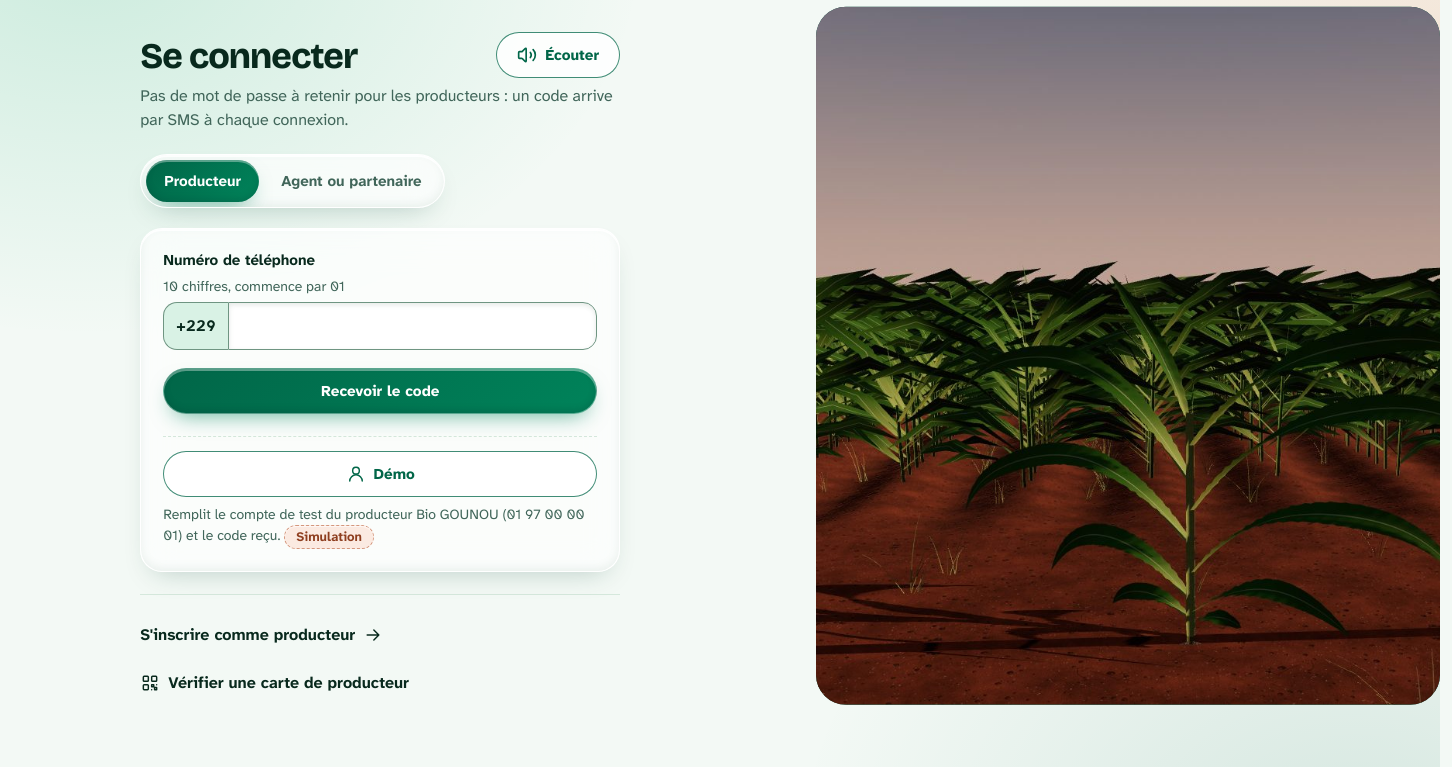
Test: Connexion › affiche l’erreur du serveur sur un code faux
The width and height of the screenshot is (1452, 767).
Type "0197000001" into the field labelled "Numéro de téléphone". click: {"x": 413, "y": 326}
box: [228,302,597,350]
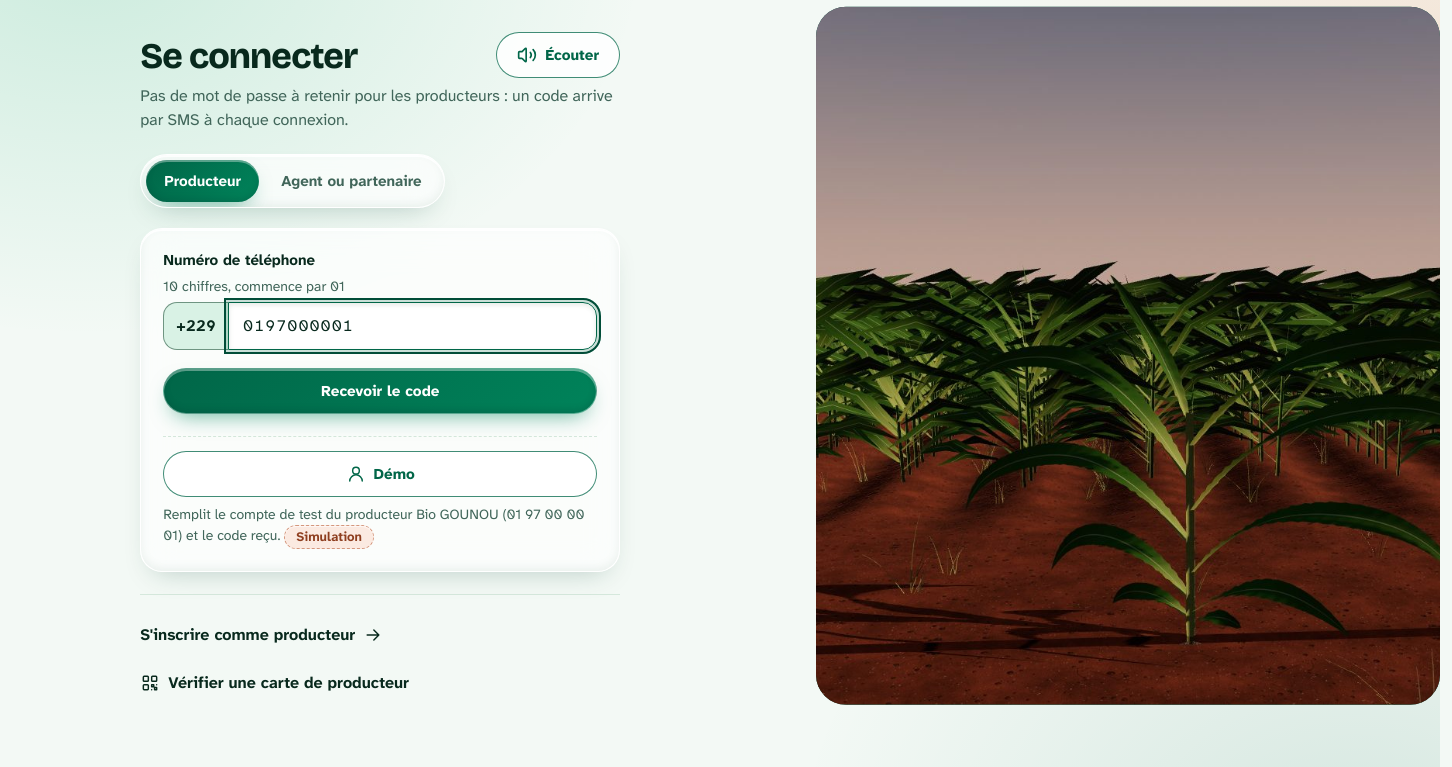
Click the button "Recevoir le code". click: {"x": 380, "y": 391}
box: [163,368,597,414]
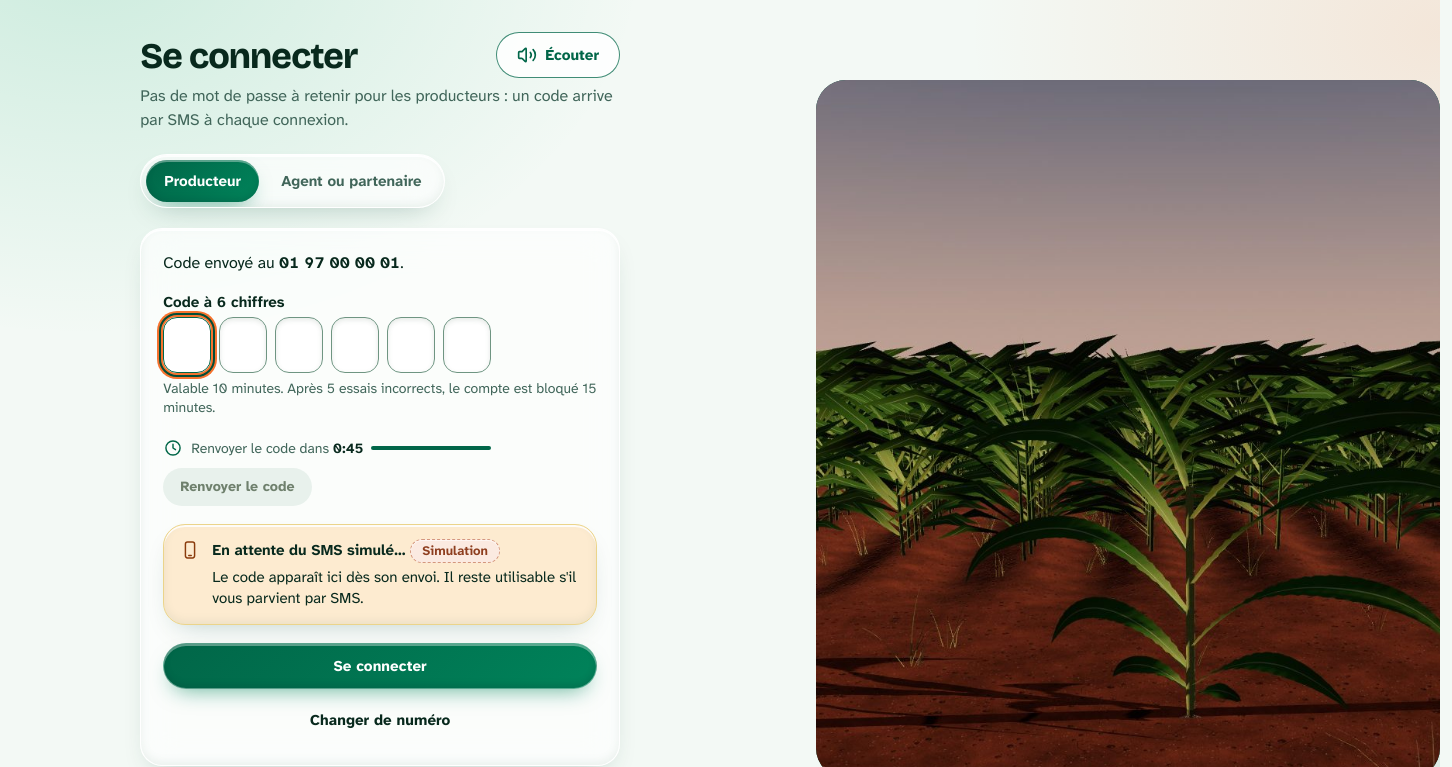
Type "000000" into the field named "Chiffre 1 sur 6". click: {"x": 187, "y": 344}
box: [163,316,211,372]
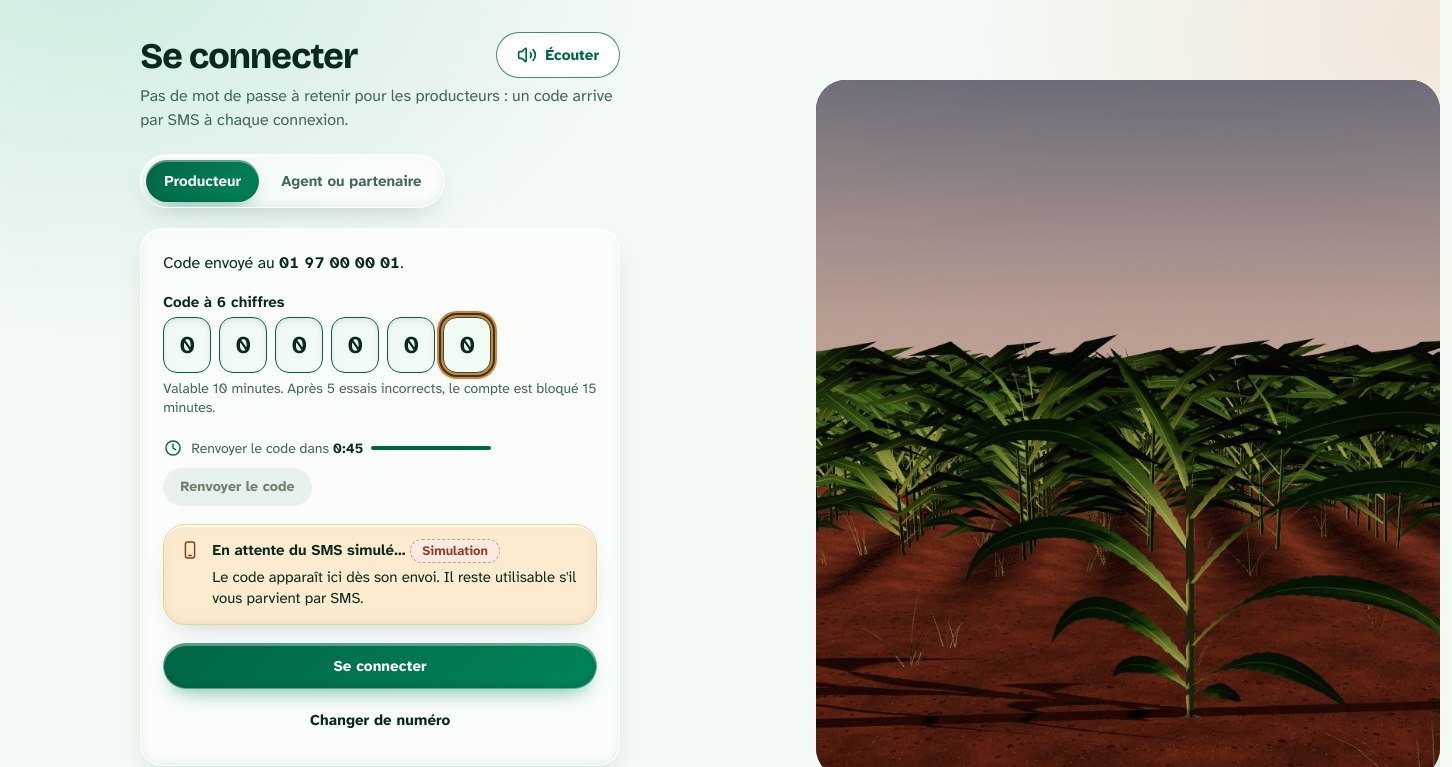
Click the button "Se connecter". click: {"x": 380, "y": 666}
box: [163,643,597,689]
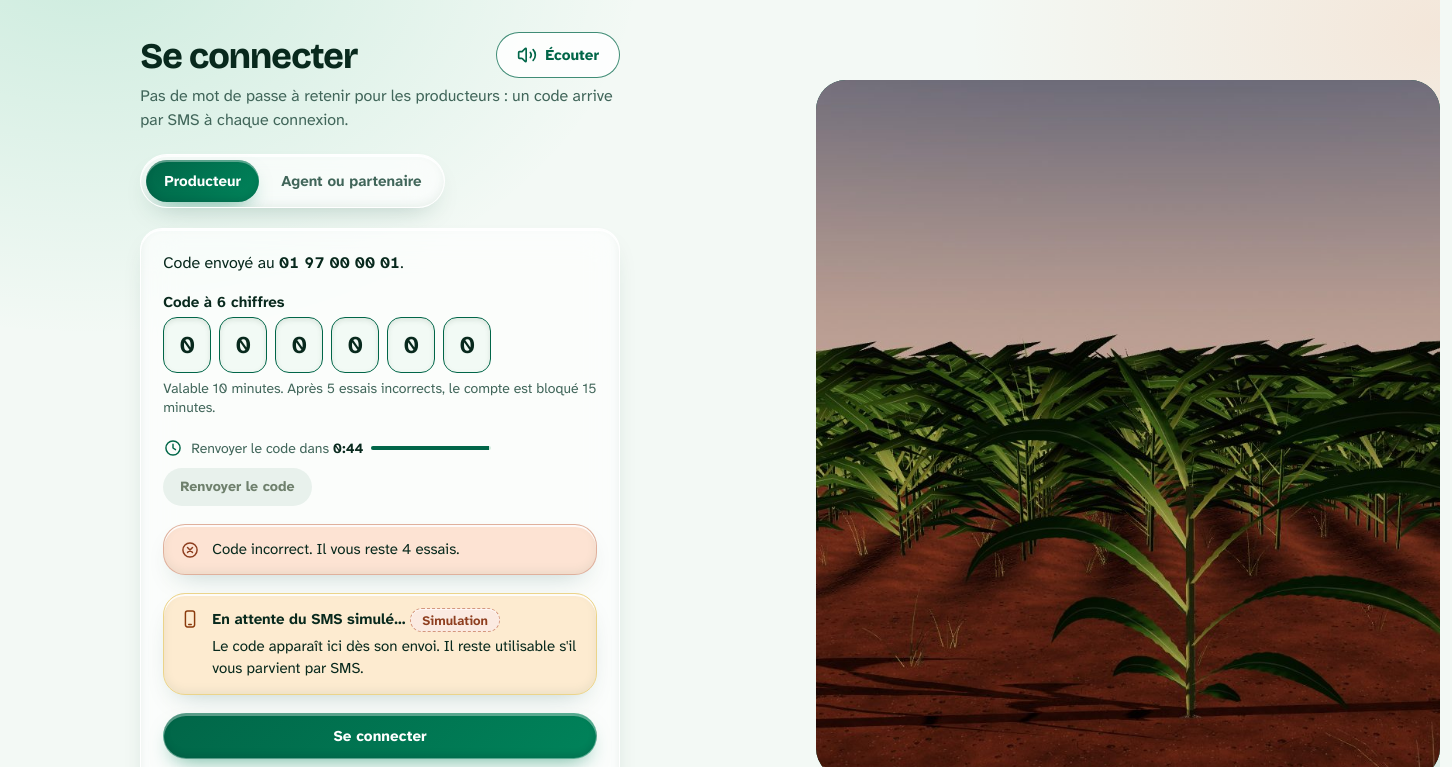
Now the text "Code incorrect. Il vous reste 4 essais." is shown, box [212,539,459,559]
